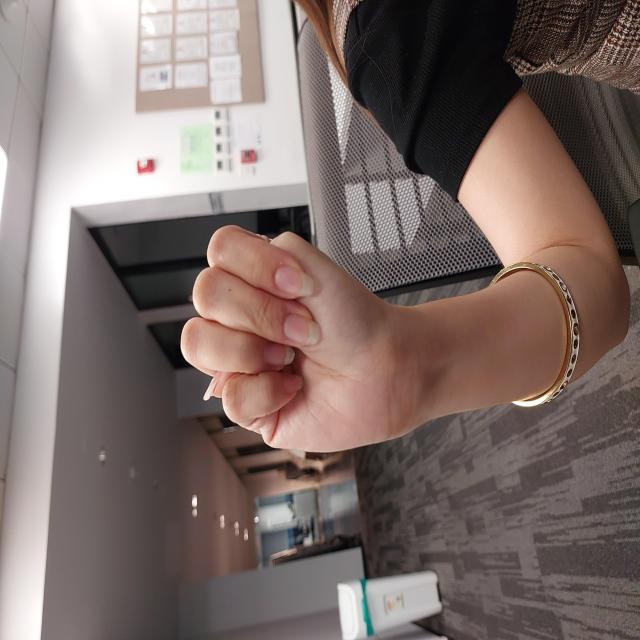M: (186, 178, 420, 411)
